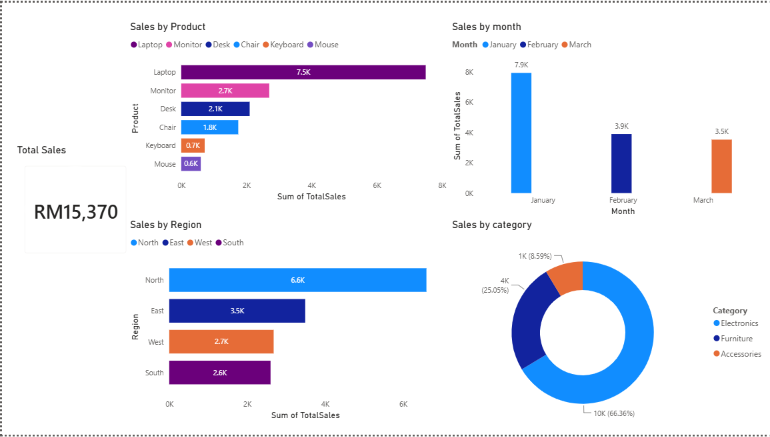

Layout of this report page (visuals, bound fields, positions):
{"tool":"powerbi","page":{"name":"Page 1","canvas":[1280,720],"ordinal":0},"visuals":[{"type":"cardVisual","title":"Total Sales","fields":{"Data":["Sum(sales_data.TotalSales)"]},"box":[20.8,234.3,204.1,200.3],"z":0},{"type":"barChart","title":"Sales by Region","fields":{"Category":["sales_data.Region"],"Y":["Sum(sales_data.TotalSales)"],"Series":["sales_data.Region"]},"box":[208.3,360,536.7,340],"z":1},{"type":"barChart","title":"Sales by Product","fields":{"Y":["Sum(sales_data.TotalSales)"],"Series":["sales_data.Product"],"Category":["sales_data.Product"]},"box":[208.3,30,536.7,305],"z":2},{"type":"clusteredColumnChart","title":"Sales by month","fields":{"Category":["sales_data.OrderDate.Variation.Date Hierarchy.Month"],"Y":["Sum(sales_data.TotalSales)"],"Series":["sales_data.OrderDate.Variation.Date Hierarchy.Month"]},"box":[745,30,535,330],"z":3},{"type":"donutChart","title":"Sales by category","fields":{"Y":["Sum(sales_data.TotalSales)"],"Category":["sales_data.Category"]},"box":[745,360,535,360],"z":4}]}

Visuals, with their boxes in screenshot pixels (x1, y1, x2, y2), scaled from the page's 1280x720 canvas onto the 770x437 screenshot:
"Total Sales" cardVisual: 13:142:135:264
"Sales by Region" barChart: 125:218:448:425
"Sales by Product" barChart: 125:18:448:203
"Sales by month" clusteredColumnChart: 448:18:769:218
"Sales by category" donutChart: 448:218:769:436
